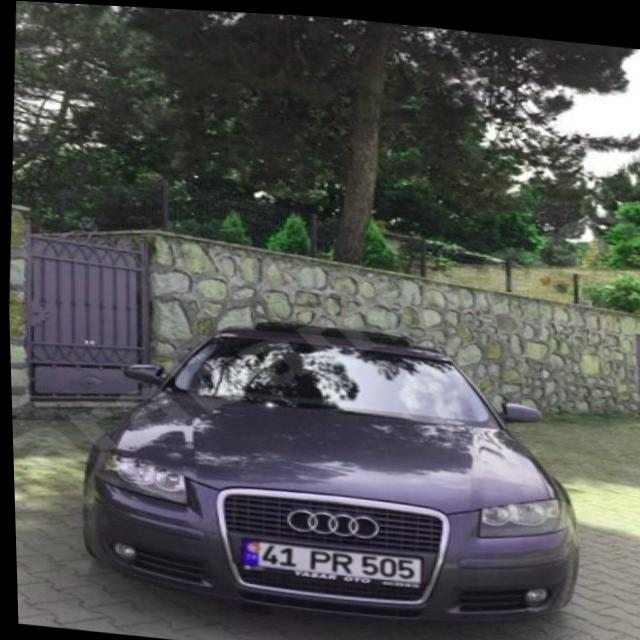license_plate: (237, 535, 421, 580)
